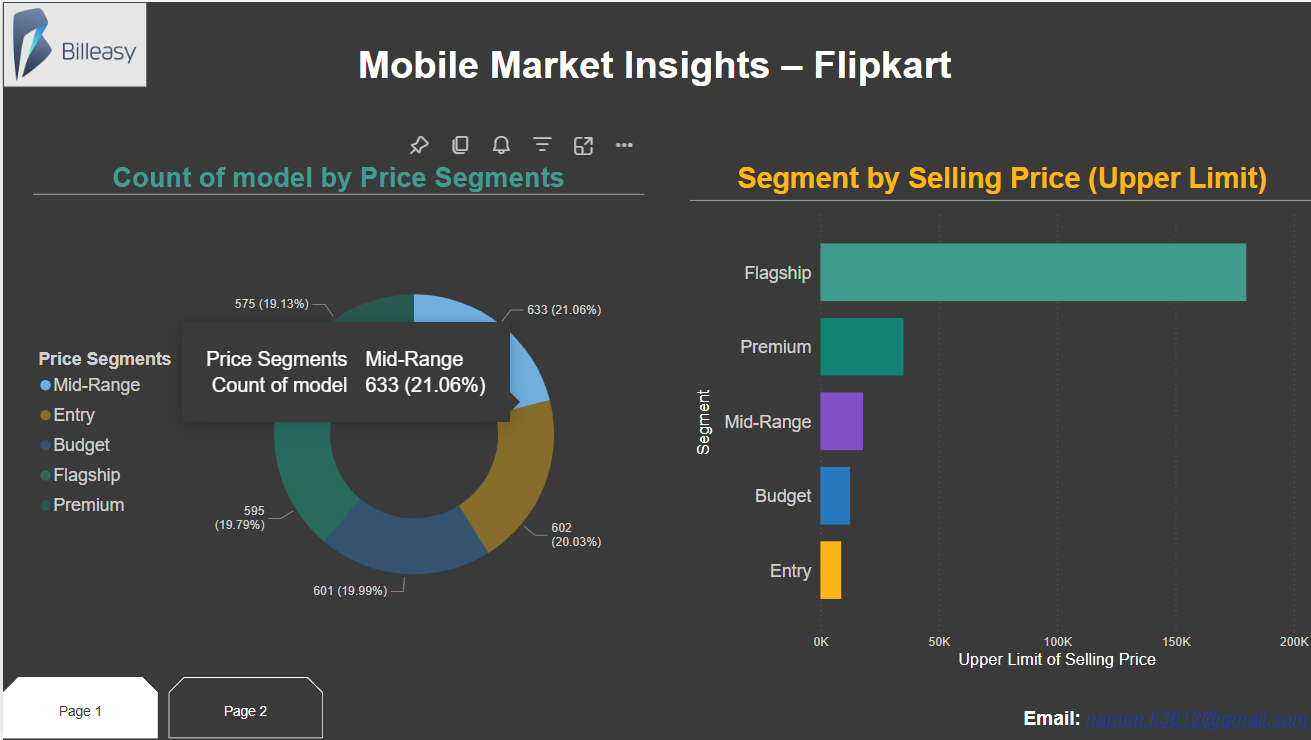

The dashboard page shown, as its layout file describes it:
{"tool":"powerbi","page":{"name":"Page 1","canvas":[1280,720],"ordinal":0},"visuals":[{"type":"donutChart","fields":{"Y":["CountNonNull(cleaned_mobile_data.model)"],"Category":["cleaned_mobile_data.price_segment"]},"box":[28.8,156,596.6,502.7],"z":0},{"type":"image","box":[0,0,140.8,83.3],"z":1000},{"type":"textbox","box":[975.1,682.9,304.4,36.3],"z":2000},{"type":"textbox","box":[313.4,33.3,655.7,71.2],"z":3000},{"type":"clusteredBarChart","title":"Segment by Selling Price (Upper Limit)","fields":{"Category":["price_segment_limits.Segment"],"Y":["Sum(price_segment_limits.Upper Limit)"]},"box":[670.8,156,608.7,498.2],"z":4000},{"type":"pageNavigator","box":[0,658.7,313.4,60.6],"z":5000}]}

Visuals, with their boxes on the page's 1280x720 design canvas (x1, y1, x2, y2). These are canvas units, not pixel positions in the 1311x740 screenshot, which may show the page scaled, cropped or inside an application window:
donutChart - CountNonNull(cleaned_mobile_data.model) x cleaned_mobile_data.price_segment: select_region(29, 156, 625, 659)
image: select_region(0, 0, 141, 83)
textbox: select_region(975, 683, 1280, 719)
textbox: select_region(313, 33, 969, 104)
"Segment by Selling Price (Upper Limit)" clusteredBarChart: select_region(671, 156, 1280, 654)
pageNavigator: select_region(0, 659, 313, 719)
